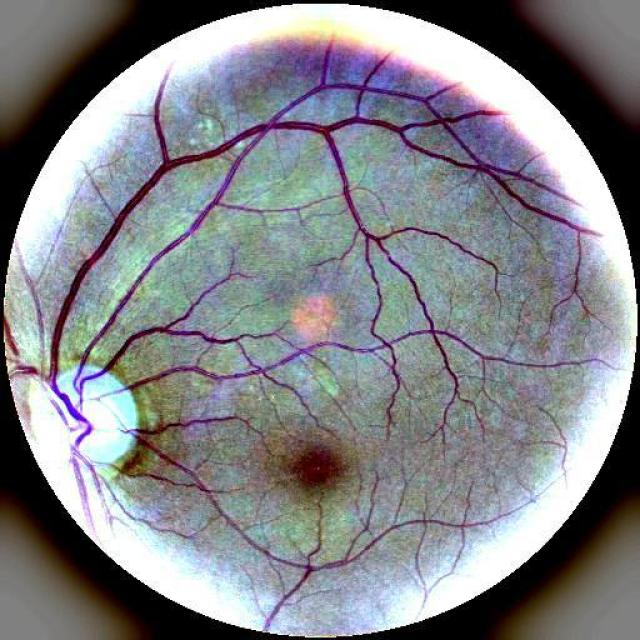Macula: (284, 435, 343, 495)
Nerves: (73, 79, 402, 387), (47, 81, 296, 407), (68, 402, 126, 540)
Optic Disk: (35, 348, 158, 500)
